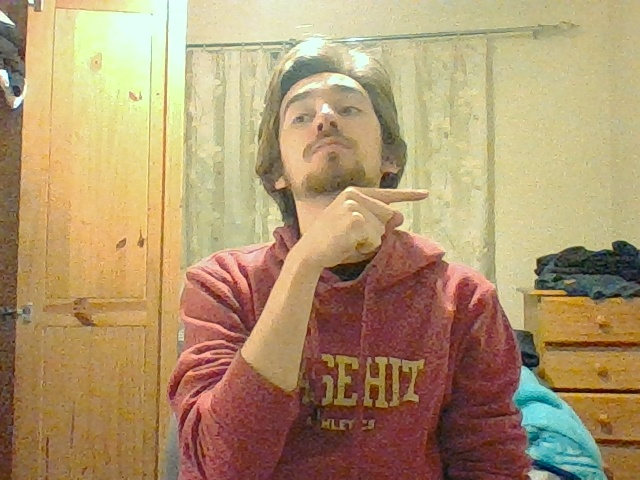son: (338, 183, 430, 255)
